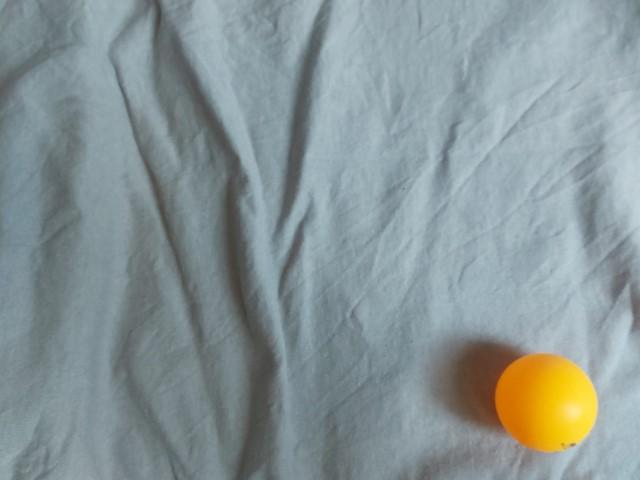oball: (34, 18, 156, 135)
